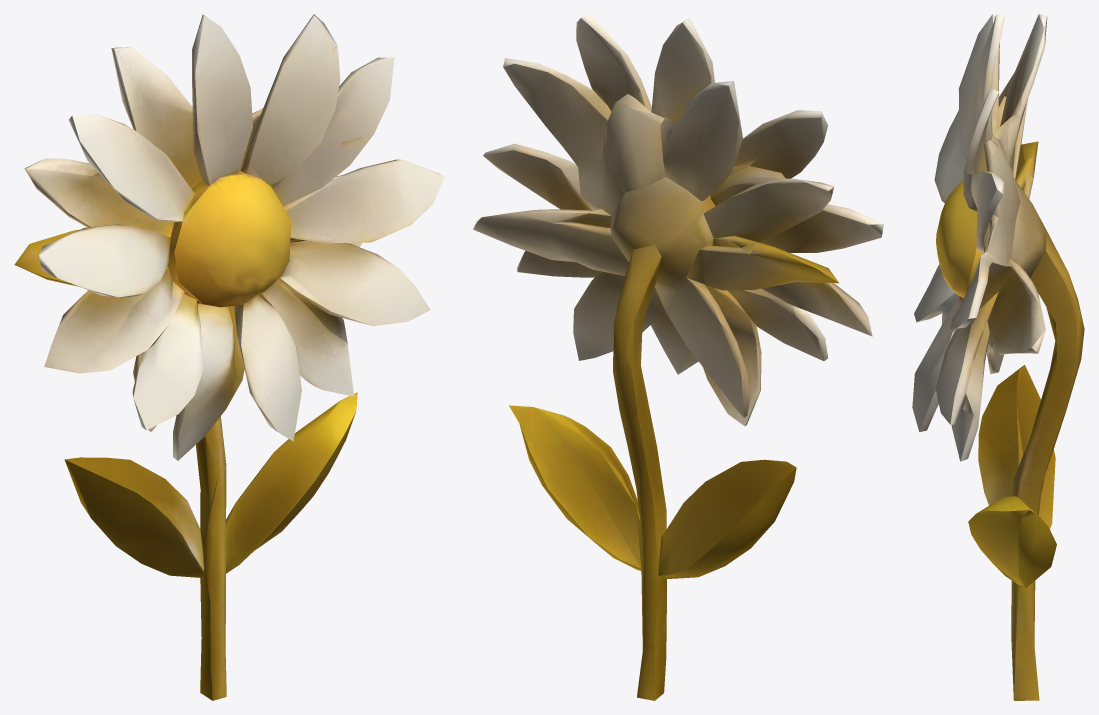
Rendered from flowerC.glb.
3 views of the same model, side by side, from view 1: azimuth 30°, elevation 25°; view 2: azimuth 150°, elevation 25°; view 3: azimuth 270°, elevation 25° (orthographic). The views are drawn at different scales.
Parts seen in each view (by area): view 1: model; view 2: model; view 3: model.
Boxes of the visible parts, bbox=[...] form: model: bbox=[14, 14, 444, 700]; model: bbox=[473, 14, 883, 700]; model: bbox=[912, 14, 1084, 700].
Bounding box in the file's own units: 1.17 × 1.9 × 0.4411.
1 material, 1 textured.
